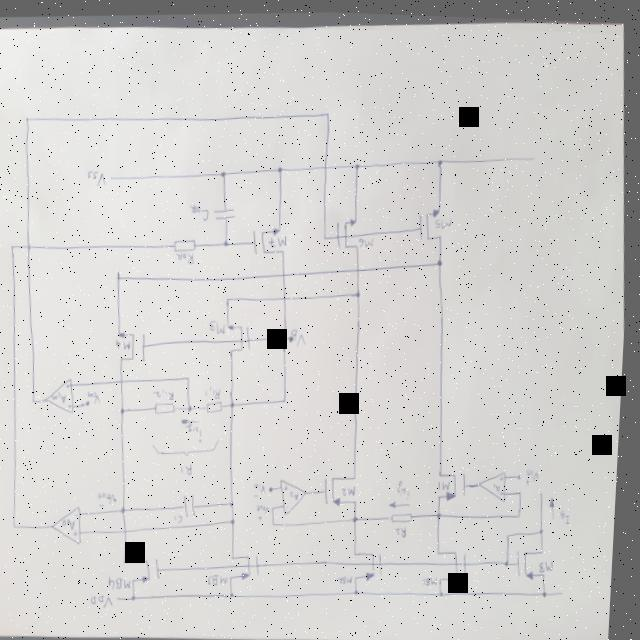capacitor: (186, 491, 201, 517), (214, 204, 239, 219)
crossover: (27, 242, 34, 250), (283, 268, 289, 276), (122, 376, 128, 384), (283, 292, 289, 300), (358, 265, 363, 271), (324, 161, 329, 167), (128, 526, 132, 532)
junction: (438, 254, 447, 264), (437, 154, 445, 163), (224, 237, 232, 245), (221, 168, 228, 177), (277, 163, 284, 171), (357, 286, 364, 294), (136, 593, 143, 601), (188, 373, 195, 380), (357, 512, 363, 520), (509, 555, 515, 563), (543, 523, 549, 531), (125, 505, 131, 513), (355, 159, 361, 167), (190, 403, 196, 411), (547, 585, 553, 593), (123, 406, 129, 414), (235, 589, 241, 597), (118, 271, 124, 279), (34, 396, 40, 404), (233, 398, 239, 406), (233, 498, 239, 505), (17, 522, 23, 529), (325, 108, 331, 115), (444, 587, 450, 594), (510, 529, 517, 535), (359, 585, 365, 592), (442, 507, 446, 516), (235, 516, 241, 522), (284, 332, 290, 338), (324, 232, 329, 239), (276, 519, 281, 525), (26, 115, 30, 122), (12, 245, 17, 250), (229, 295, 233, 301), (286, 395, 290, 401), (521, 508, 525, 514), (276, 503, 280, 509), (523, 486, 527, 491)
resistor: (174, 234, 200, 252), (395, 505, 418, 520), (156, 399, 180, 413), (208, 397, 228, 412)
terminal: (291, 332, 297, 341), (272, 483, 279, 490), (521, 469, 527, 476), (121, 594, 127, 600), (532, 151, 536, 159), (564, 585, 568, 591), (90, 399, 94, 405), (544, 485, 548, 491), (111, 173, 114, 180)
text: (189, 200, 212, 222), (188, 418, 208, 443), (112, 573, 138, 591), (87, 167, 109, 187), (100, 488, 123, 507), (94, 592, 120, 608), (292, 324, 310, 345), (176, 248, 198, 265), (400, 475, 415, 498), (211, 316, 230, 334), (155, 386, 178, 400), (212, 570, 234, 584), (269, 232, 291, 246), (529, 462, 545, 481), (260, 500, 275, 519), (90, 387, 106, 404), (542, 554, 560, 569), (118, 336, 134, 352), (208, 383, 225, 398), (256, 479, 271, 496), (55, 389, 71, 404), (345, 481, 362, 495), (426, 571, 444, 584), (183, 459, 198, 474), (341, 571, 359, 583), (563, 504, 575, 521), (435, 213, 452, 225), (359, 234, 377, 245), (441, 475, 456, 487), (399, 521, 412, 534), (67, 517, 80, 529), (177, 511, 189, 523), (496, 476, 506, 488), (294, 489, 303, 497), (77, 528, 84, 536), (288, 479, 294, 488), (68, 381, 75, 388), (79, 511, 83, 517), (504, 471, 508, 477), (72, 402, 76, 407), (504, 486, 508, 491), (290, 501, 294, 505)
transistor: (410, 195, 450, 242), (322, 467, 366, 507), (435, 455, 473, 498), (439, 541, 476, 582), (125, 551, 169, 585), (354, 543, 392, 580), (117, 325, 153, 364), (250, 223, 292, 256), (231, 545, 268, 580), (519, 543, 552, 577), (334, 213, 365, 249), (228, 319, 258, 355)
